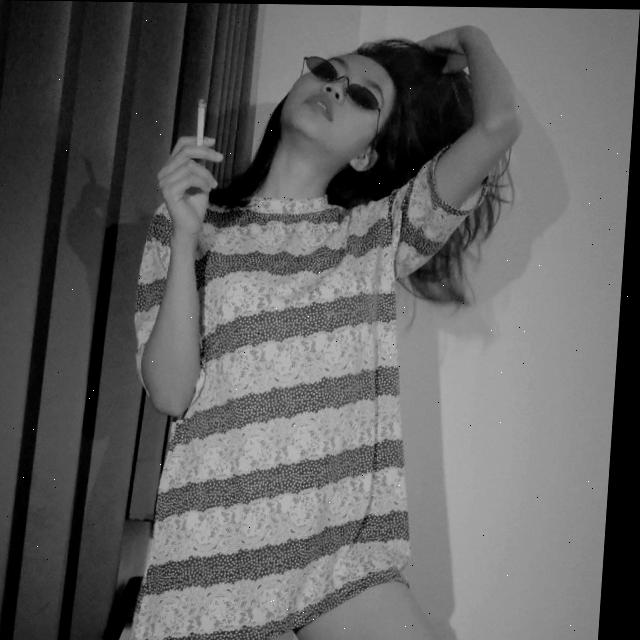cigarette: (197, 98, 209, 144)
